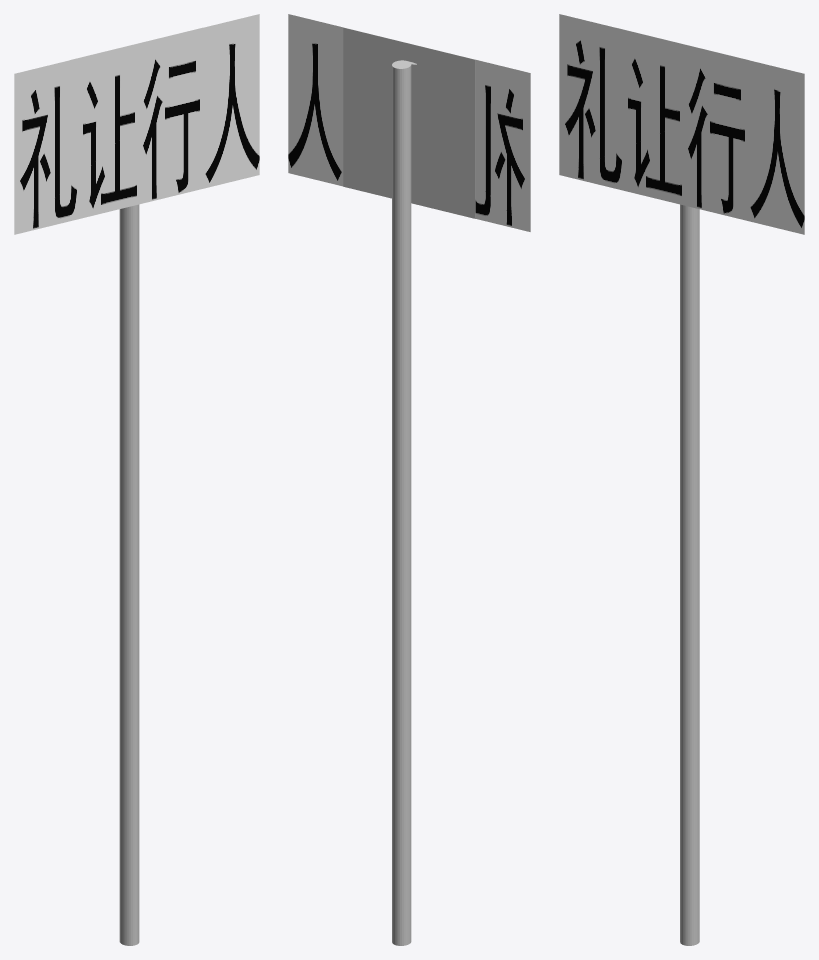
3 views of the same model, side by side, from view 1: azimuth 30°, elevation 25°; view 2: azimuth 150°, elevation 25°; view 3: azimuth 330°, elevation 25° (orthographic).
Parts seen in each view (by area): view 1: SM_zhishipai_05; view 2: SM_zhishipai_05; view 3: SM_zhishipai_05.
Part boxes in pixels (x1,y1,x2,y2): SM_zhishipai_05: (14,14,259,945); SM_zhishipai_05: (288,14,530,945); SM_zhishipai_05: (559,14,804,945).
Size of the model in its own units: 4.69 by 16.52 by 0.4286.
2 materials, 1 textured.
